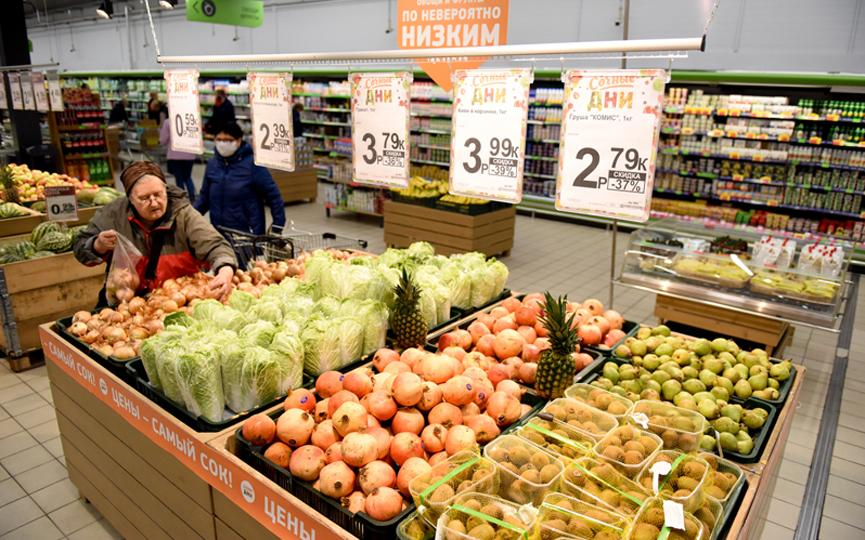grapes: (591, 323, 792, 454)
pineapple: (533, 290, 580, 399), (388, 266, 428, 348)
pomegranate: (232, 356, 517, 523), (440, 303, 623, 375)
